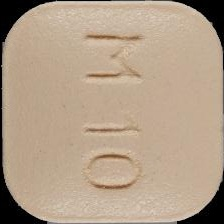60505-3562: (0, 0, 224, 224)
